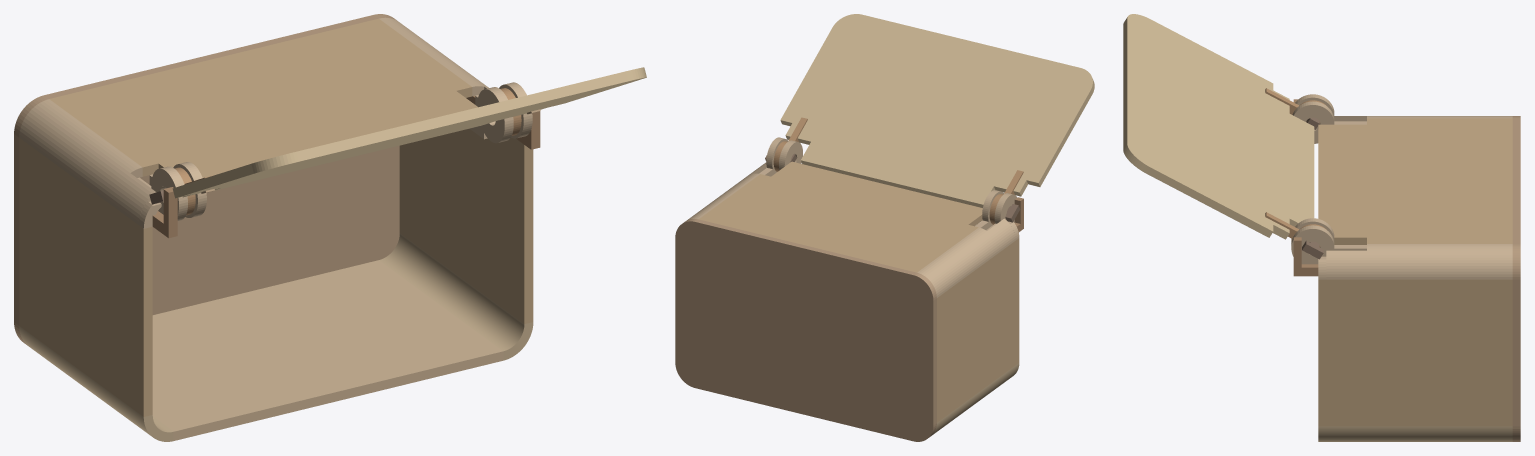
The model's file is etrog-c13-open-120-design-only.glb.
3 views of the same model, side by side, from view 1: azimuth 30°, elevation 25°; view 2: azimuth 150°, elevation 25°; view 3: azimuth 270°, elevation 25° (orthographic). The views are drawn at different scales.
Visible parts, largest first — view 1: P01, P02, P05, P03, P04, P07, P06_RIGHT_INNER, P06_LEFT_OUTER, P06_LEFT_KEEPER, P06_FRONT_RIGHT_LAYER_24, P06_LEFT_INNER; view 2: P05, P07, P02, P03, P06_RIGHT_INNER, P06_LEFT_OUTER; view 3: P04, P07, P02, P05, P06_RIGHT_OUTER, P06_LEFT_INNER, P06_RIGHT_KEEPER, P06_RIGHT_INNER, P06_LEFT_OUTER.
Part boxes in pixels (<box>): P01: <box>152,260,503,440</box>; P02: <box>49,18,477,177</box>; P05: <box>14,14,399,344</box>; P03: <box>19,138,152,416</box>; P04: <box>399,128,533,323</box>; P07: <box>172,67,646,198</box>; P06_RIGHT_INNER: <box>470,87,513,143</box>; P06_LEFT_OUTER: <box>137,166,187,220</box>; P06_LEFT_KEEPER: <box>152,187,177,238</box>; P06_FRONT_RIGHT_LAYER_24: <box>498,321,533,360</box>; P06_LEFT_INNER: <box>149,162,206,217</box>; P05: <box>675,219,936,441</box>; P07: <box>780,14,1094,207</box>; P02: <box>699,161,982,272</box>; P03: <box>937,238,1019,422</box>; P06_RIGHT_INNER: <box>779,140,802,170</box>; P06_LEFT_OUTER: <box>986,193,1016,230</box>; P04: <box>1318,279,1512,426</box>; P07: <box>1123,14,1314,239</box>; P02: <box>1318,118,1512,244</box>; P05: <box>1512,116,1520,441</box>; P06_RIGHT_OUTER: <box>1291,225,1334,264</box>; P06_LEFT_INNER: <box>1292,101,1334,143</box>; P06_RIGHT_KEEPER: <box>1293,237,1318,276</box>; P06_RIGHT_INNER: <box>1291,218,1366,250</box>; P06_LEFT_OUTER: <box>1295,94,1366,124</box>.
Bounding box in the file's own units: 0.26 × 0.2417 × 0.2946.
